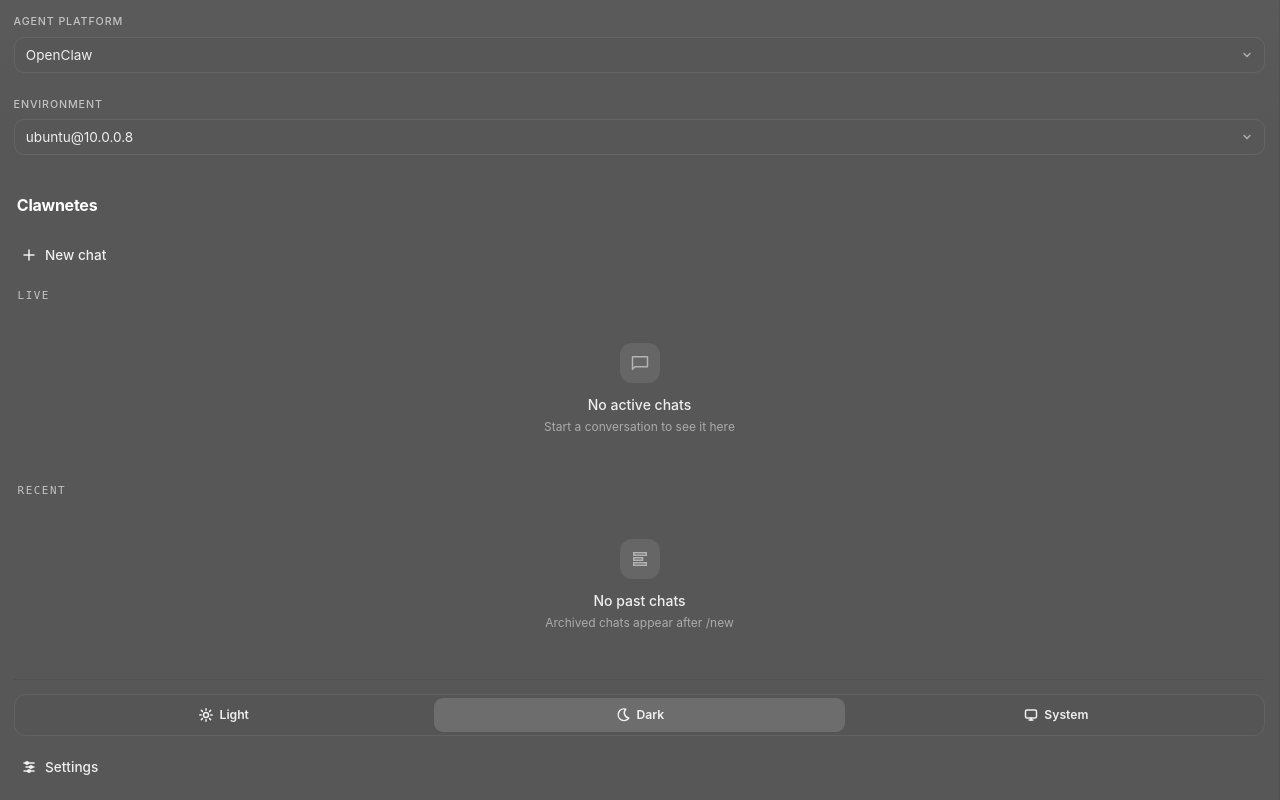
Test: ChatSidebar › shows remove controls only for non-active cloud environments
The image size is (1280, 800).
What coordinates should you click on to do the following:
click the button "ubuntu@10.0.0.8"
I would click on:
 (80, 137)
Its box is [14,119,1265,155].
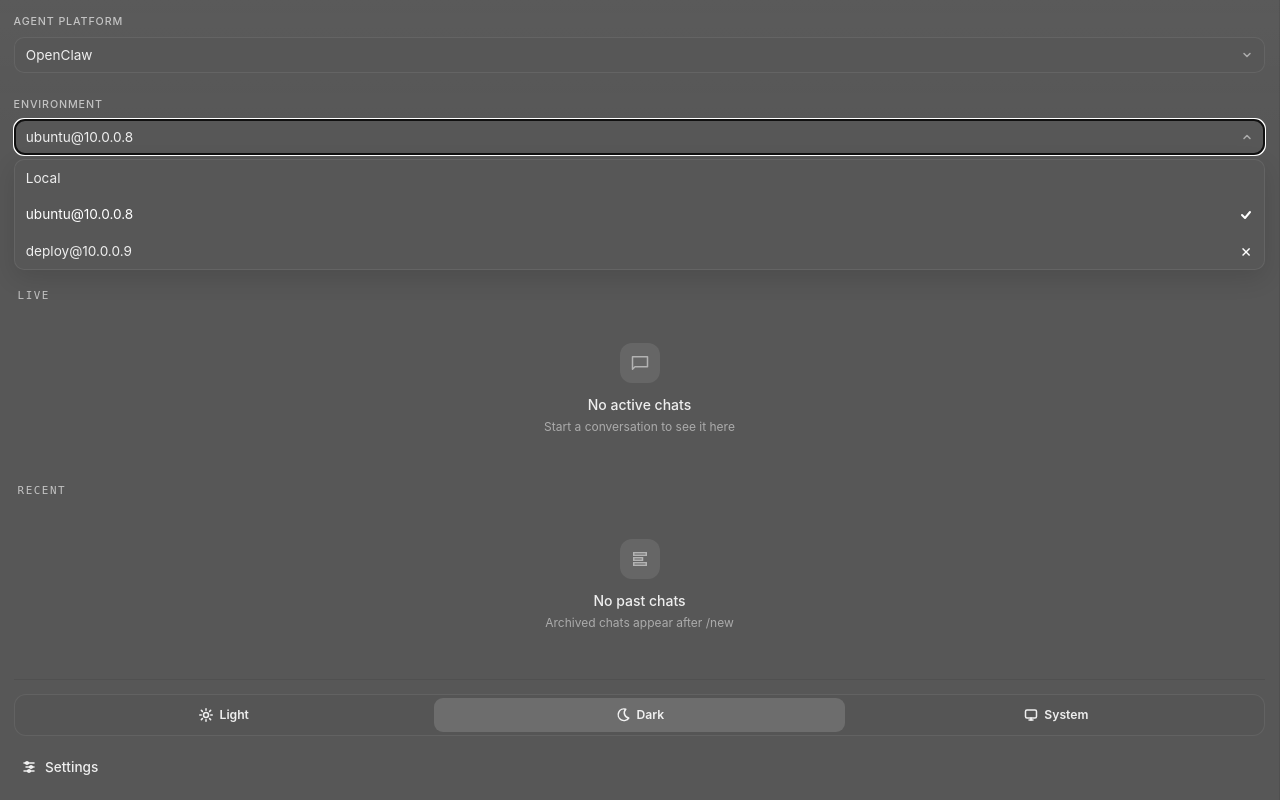
Result: the button with test id "remove-environment-old" is shown at [1233,238,1259,264]
